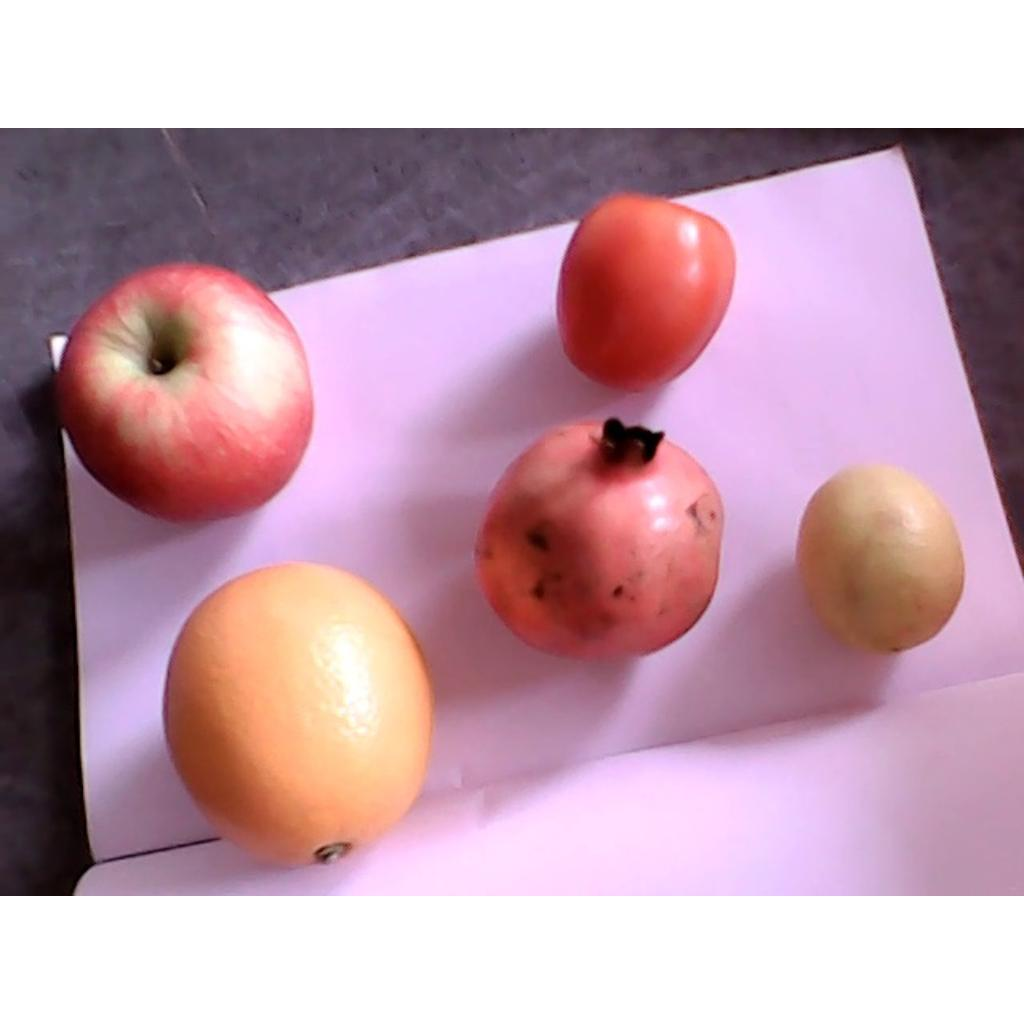apple: (54, 262, 311, 522)
lemon: (795, 465, 964, 654)
orange: (164, 564, 430, 867)
pomegranate: (476, 416, 723, 660)
tomato: (555, 194, 737, 393)
